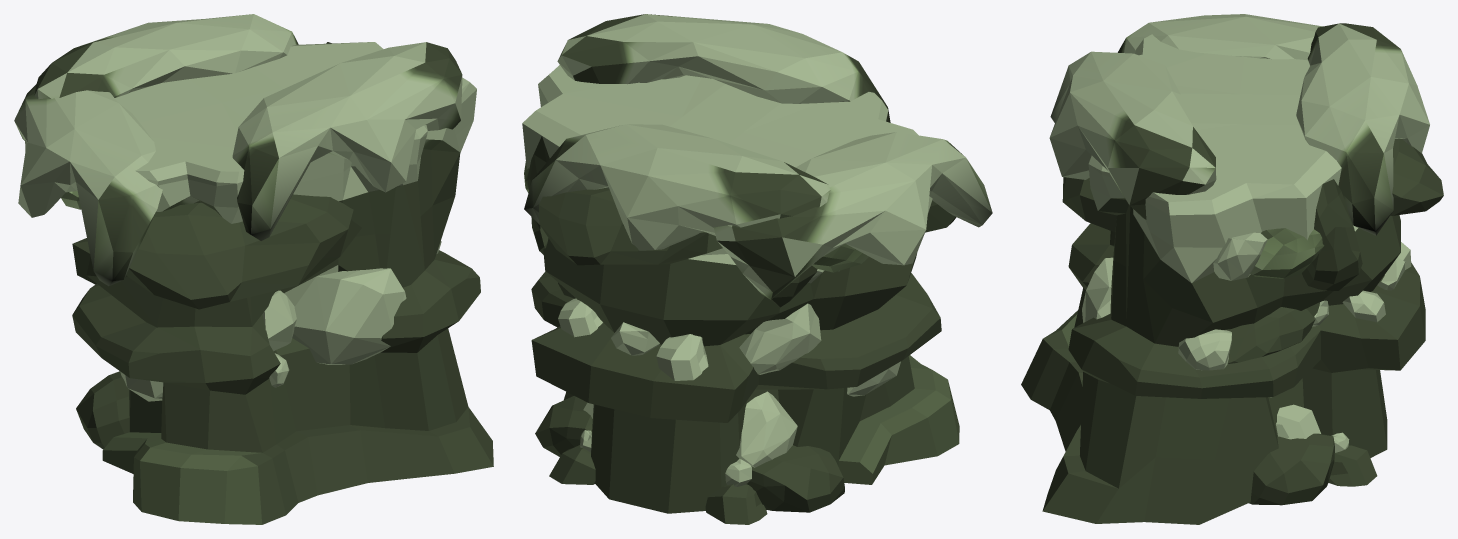
File: EA_Swamp_Island_Small_05c.glb
3 renders of one model, left to right at view 1: azimuth 30°, elevation 25°; view 2: azimuth 150°, elevation 25°; view 3: azimuth 270°, elevation 25°, orthographic.
Parts seen in each view (by area): view 1: EA_Swamp_Island_Small_05c; view 2: EA_Swamp_Island_Small_05c; view 3: EA_Swamp_Island_Small_05c.
Part boxes in pixels (<box>): EA_Swamp_Island_Small_05c: <box>14,14,493,524</box>; EA_Swamp_Island_Small_05c: <box>522,14,992,524</box>; EA_Swamp_Island_Small_05c: <box>1021,14,1443,524</box>.
Size of the model in its own units: 9.43 by 8.33 by 8.4.
Materials: 1 (1 with a texture image).
